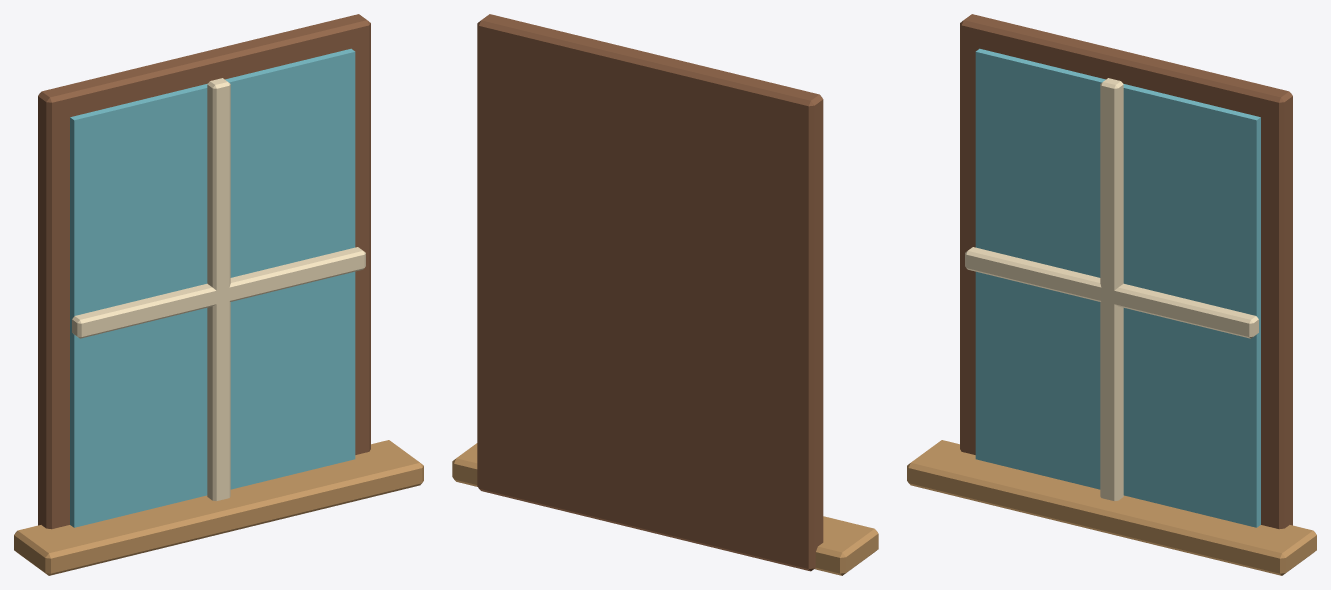
File: SM_CH_Paper_Window.fbx
3 renders of one model, left to right at view 1: azimuth 30°, elevation 25°; view 2: azimuth 150°, elevation 25°; view 3: azimuth 330°, elevation 25°, orthographic. The views are drawn at different scales.
Visible parts, largest first — view 1: SM_CH_Paper_Window; view 2: SM_CH_Paper_Window; view 3: SM_CH_Paper_Window.
Part boxes in pixels (bbox=[...]): SM_CH_Paper_Window: bbox=[14, 14, 423, 575]; SM_CH_Paper_Window: bbox=[452, 14, 878, 575]; SM_CH_Paper_Window: bbox=[907, 14, 1316, 575].
Size of the model in its own units: 10500 by 1850 by 12000.
